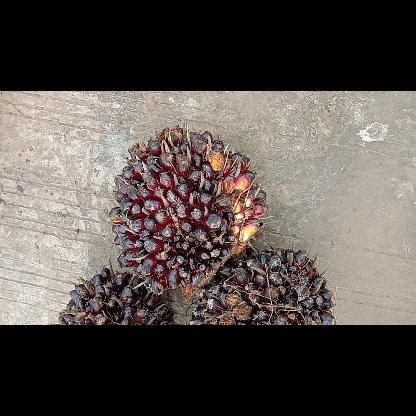TBS mentah: (108, 122, 266, 302), (184, 244, 338, 324), (56, 266, 178, 324)
